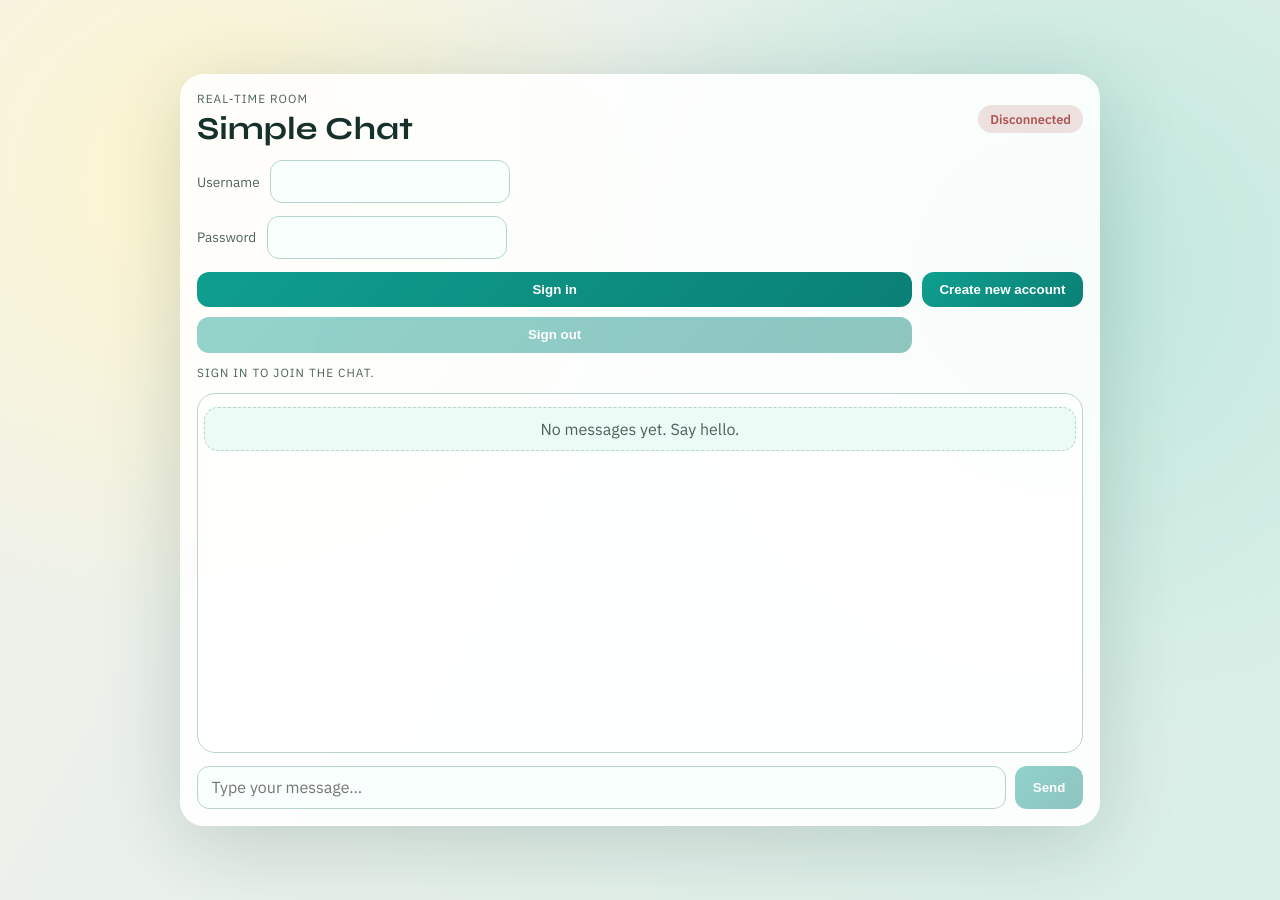
Test: App › reconnects after an unexpected socket close and shows received messages
The width and height of the screenshot is (1280, 900).
Type "alice" into the field labelled "Username" at (390, 182), box [270,160,510,203]
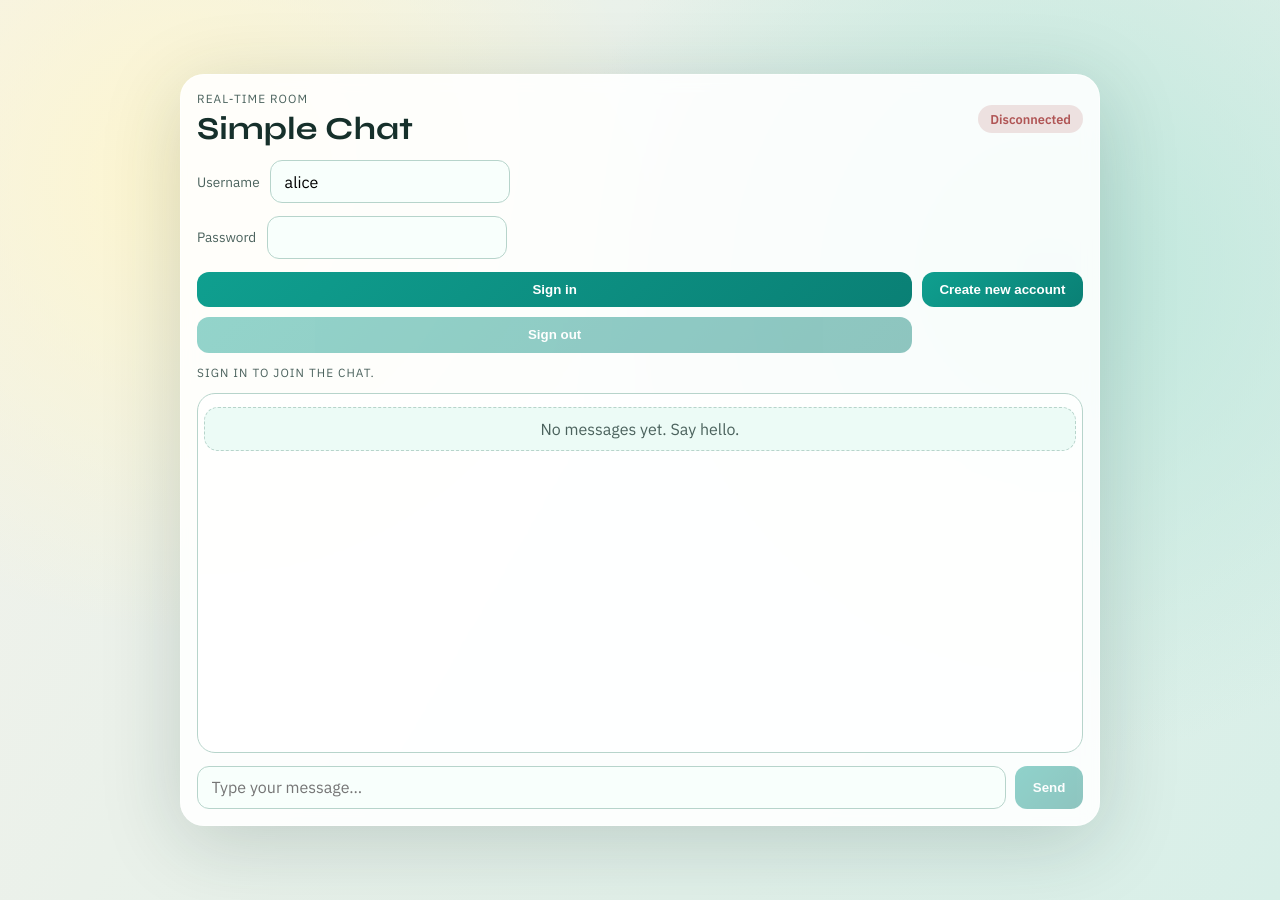
Type "password123" into the password field labelled "Password" at (387, 237), box [267,216,507,259]
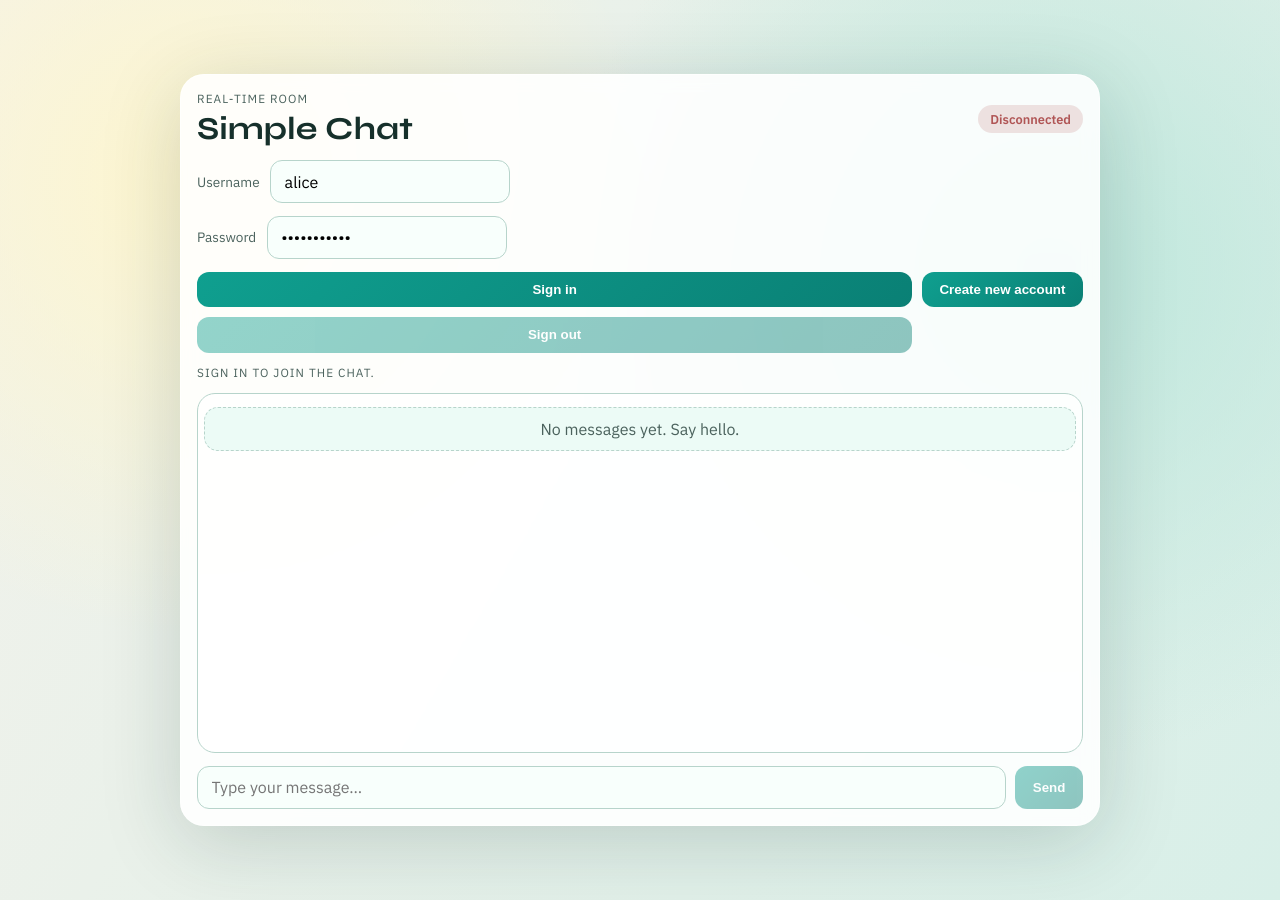
Click the button "Sign in" at (555, 289), box [197,272,912,307]
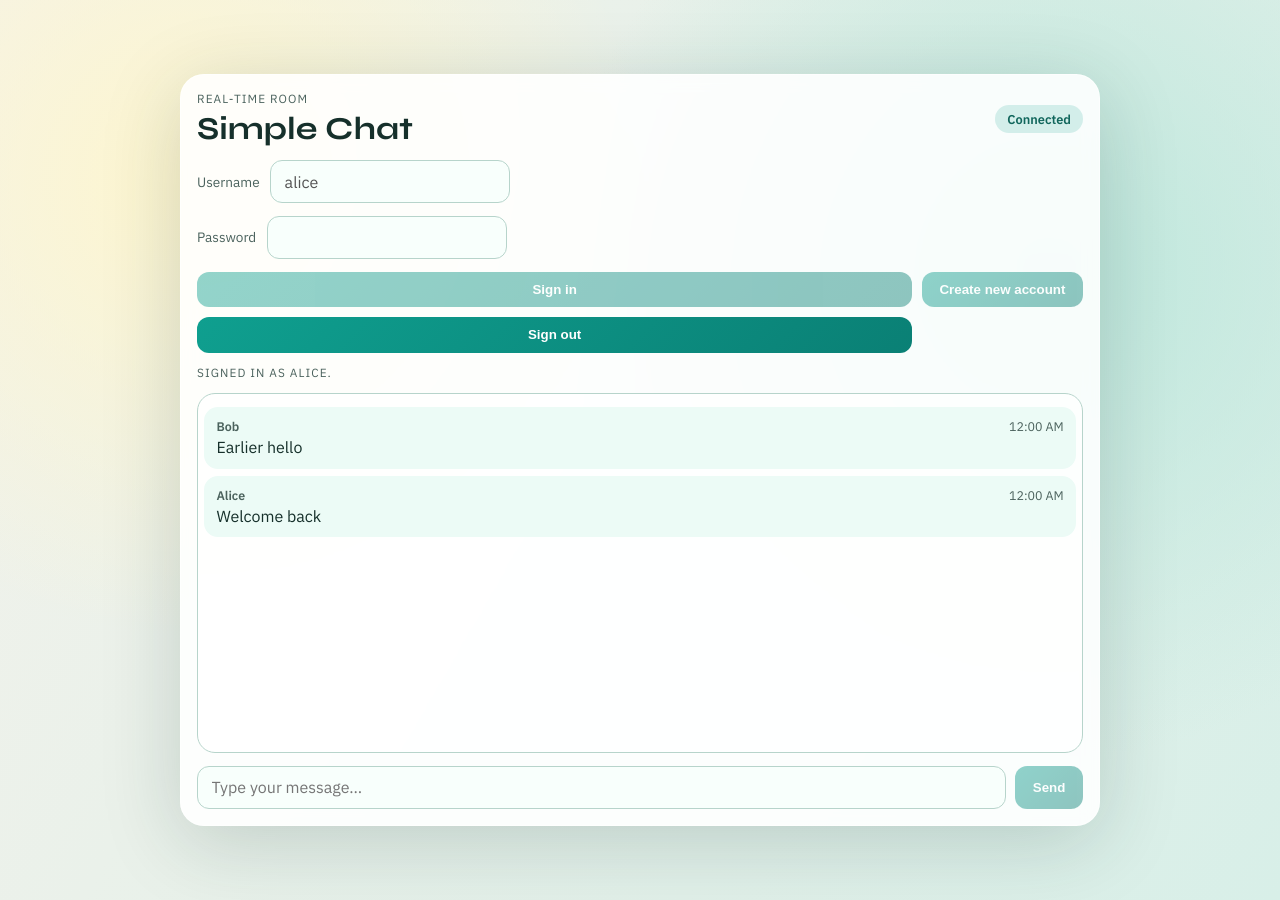
Expected: the text "Connection lost. Reconnecting (1/3)..." is shown, [197,366,332,380]
Expected: the text "Earlier hello" is shown, [216,437,302,457]
Expected: the text "Welcome back" is shown, [216,506,321,526]
